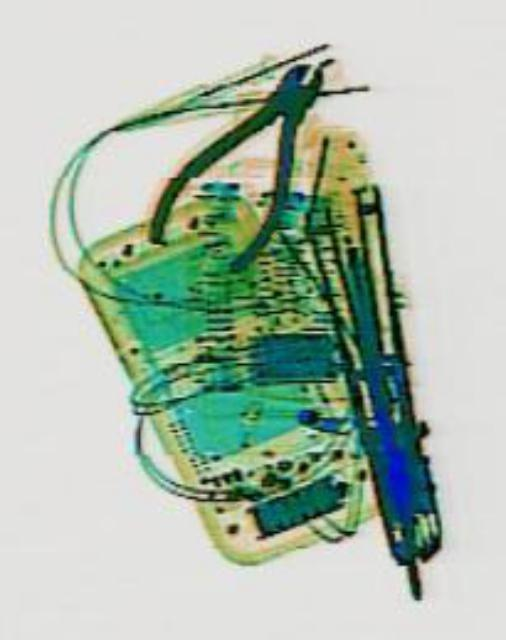Pliers: (135, 20, 351, 298)
